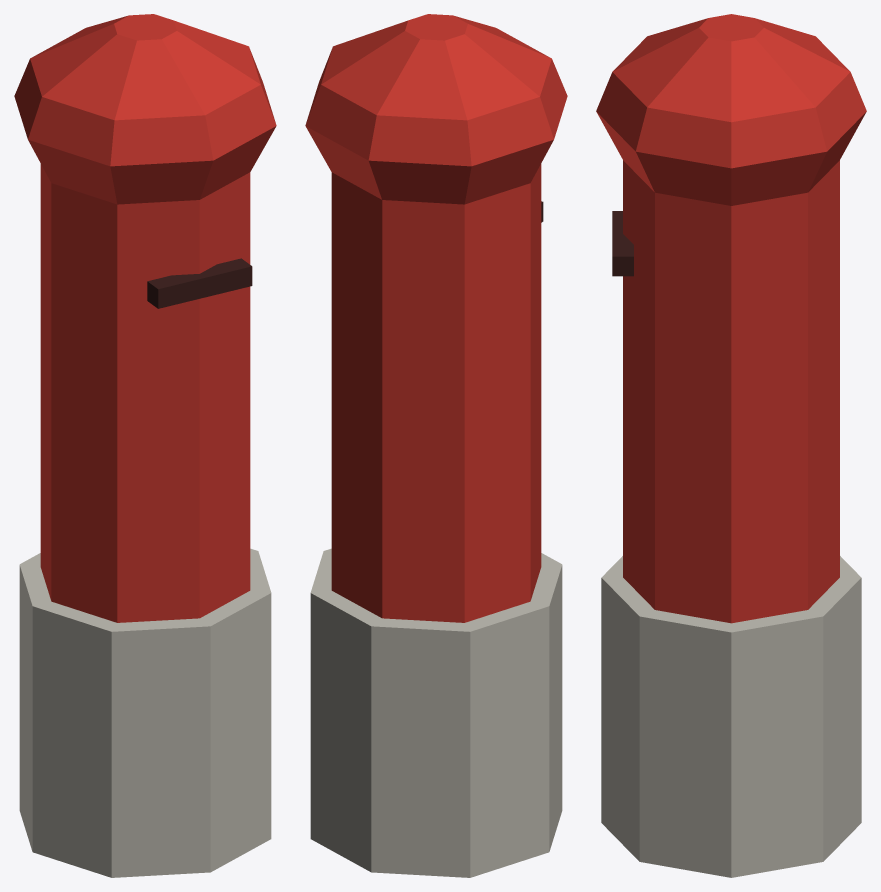
Rendered from postbox.glb.
The picture shows the model from 3 angles, left to right: view 1: azimuth 30°, elevation 25°; view 2: azimuth 150°, elevation 25°; view 3: azimuth 270°, elevation 25°; orthographic projection.
Visible parts, largest first — view 1: postbox; view 2: postbox; view 3: postbox.
Boxes of the visible parts, x1,y1,x2,y2 form: postbox: (14, 14, 276, 877); postbox: (305, 14, 567, 877); postbox: (596, 14, 866, 877).
Bounding box in the file's own units: 0.5 × 1.62 × 0.5.
